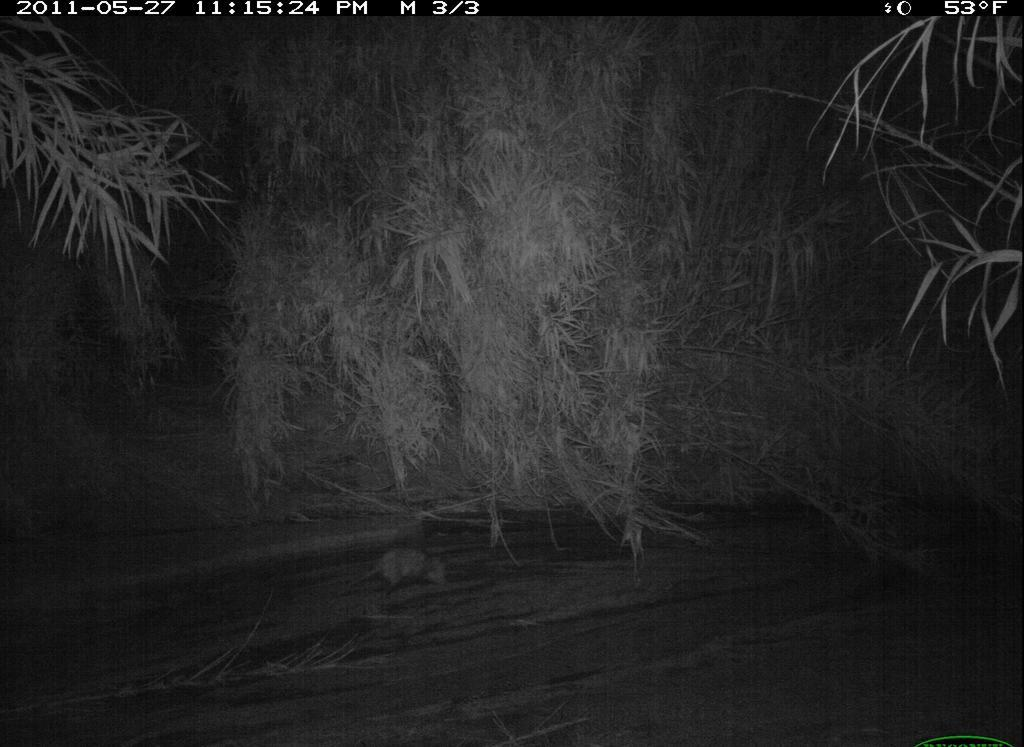opossum: (341, 537, 475, 606)
